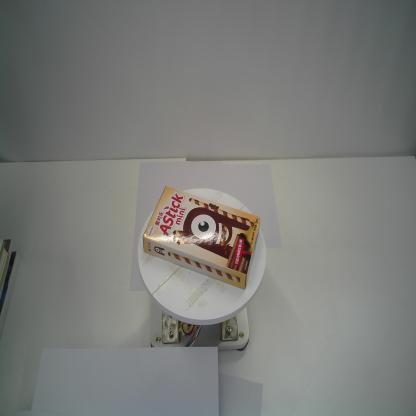Dessert: (142, 185, 262, 290)
